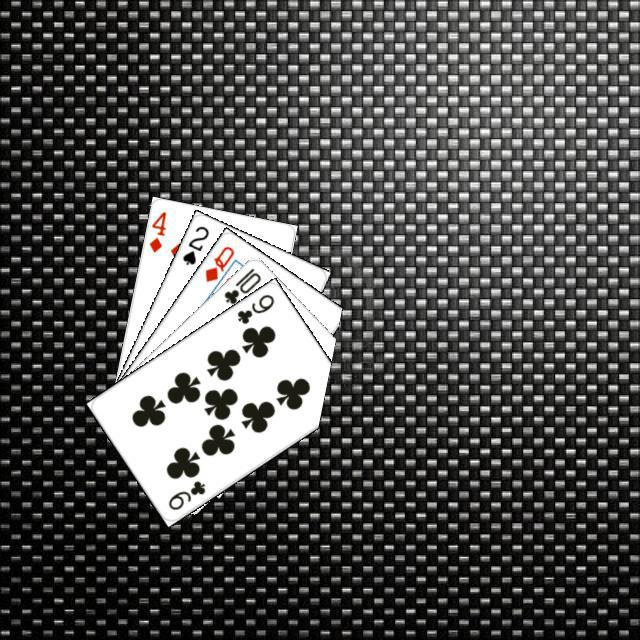10c: (219, 263, 263, 306)
2s: (177, 221, 211, 267)
4d: (144, 207, 168, 254)
9c: (232, 289, 276, 326), (163, 476, 207, 512)
Qd: (200, 241, 236, 284)
